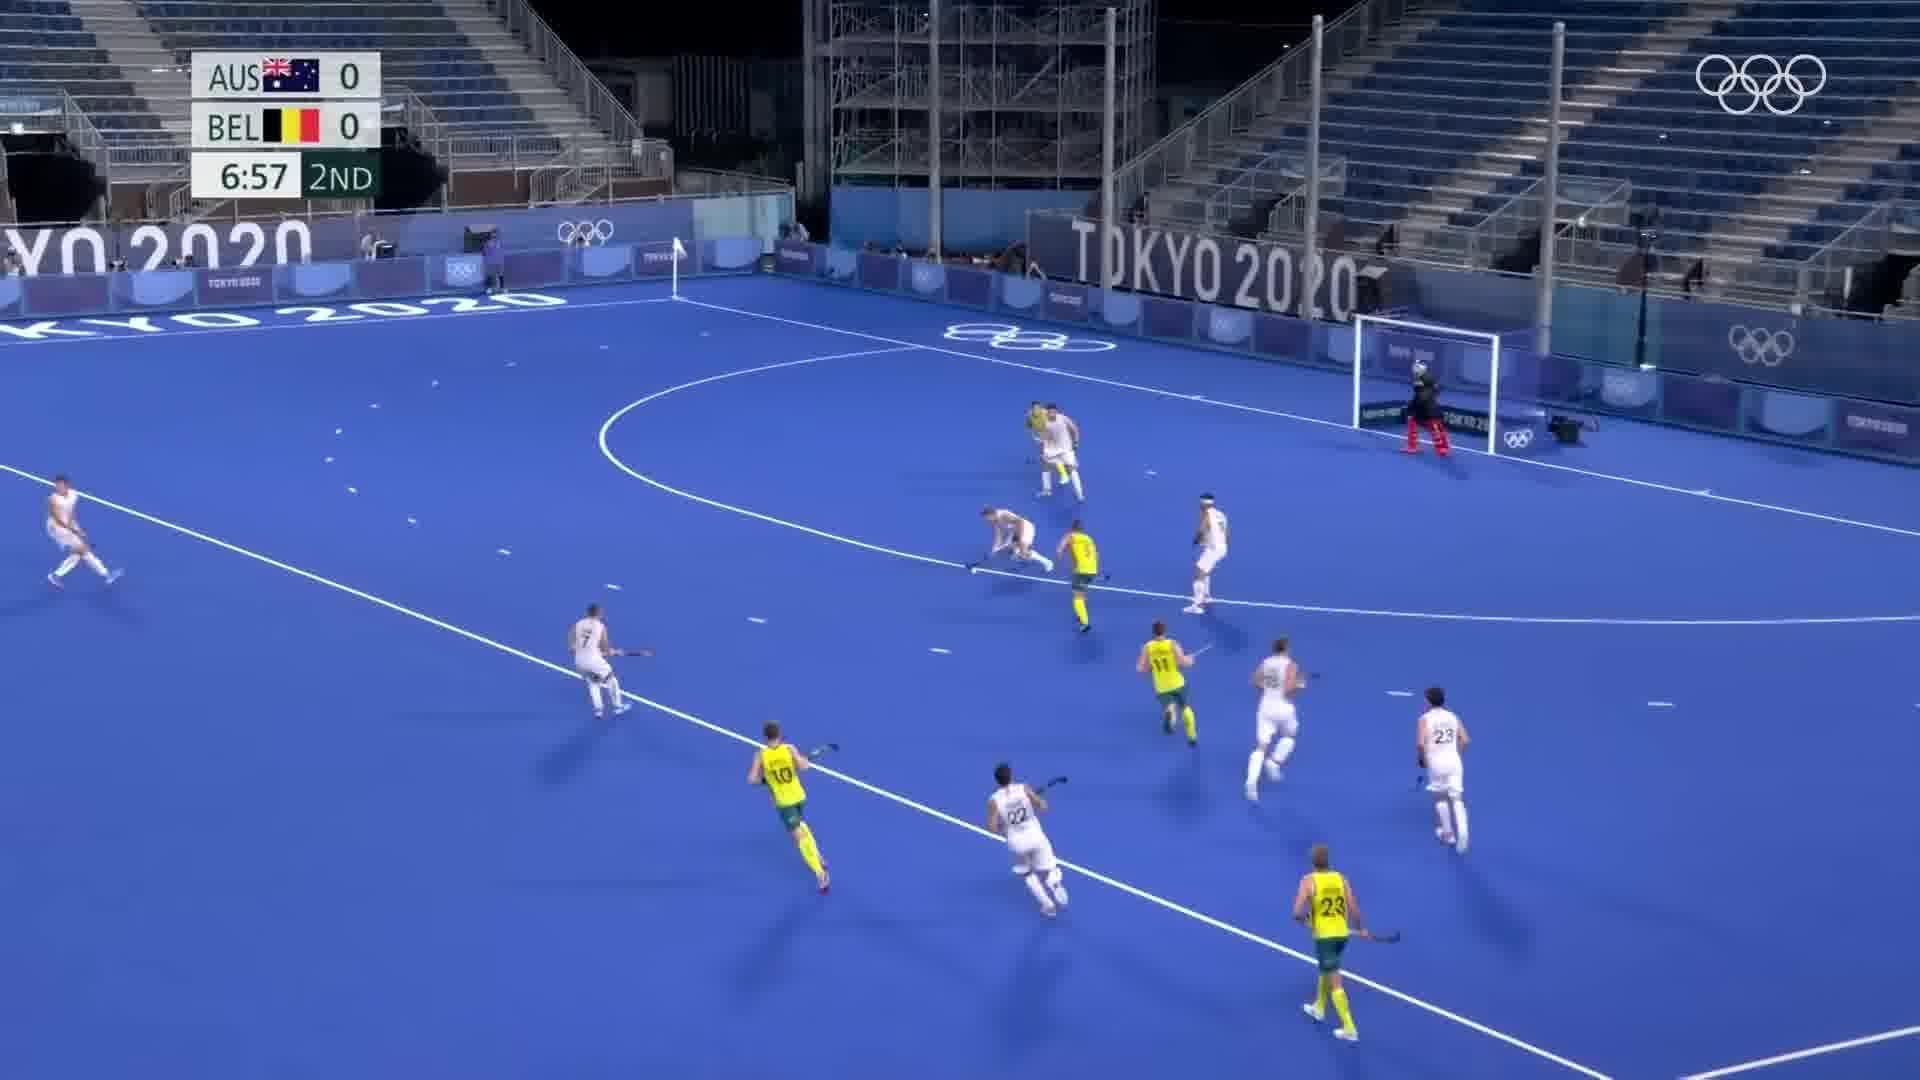ball: (966, 566, 978, 578)
